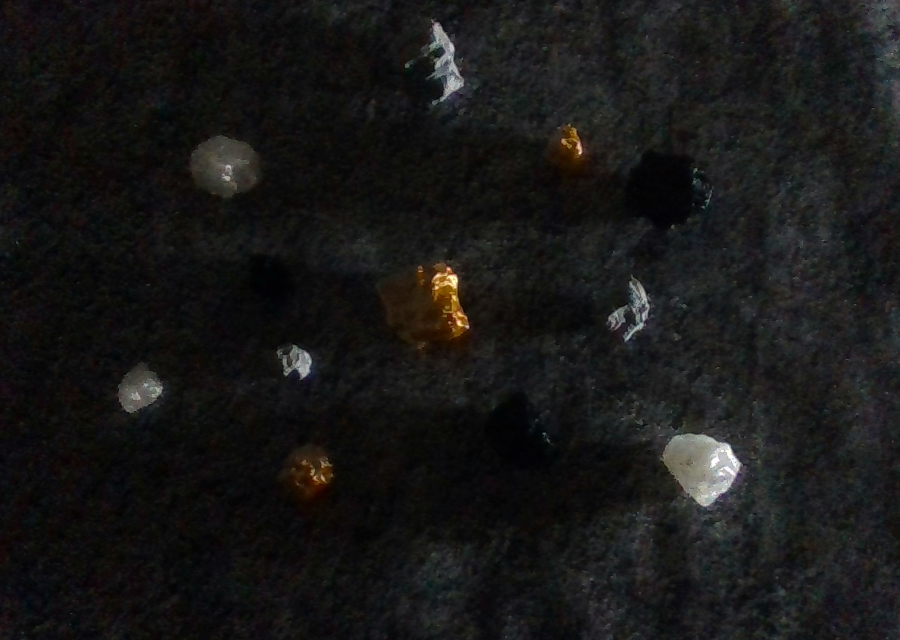anorthosite: (661, 432, 741, 510), (188, 135, 264, 200), (117, 363, 164, 415)
basalt: (624, 147, 713, 232), (486, 389, 556, 465), (249, 253, 291, 296)
metal: (377, 258, 471, 351), (276, 440, 337, 502), (543, 124, 582, 166)
regolith: (386, 18, 467, 106), (591, 275, 657, 345), (266, 341, 314, 384)
